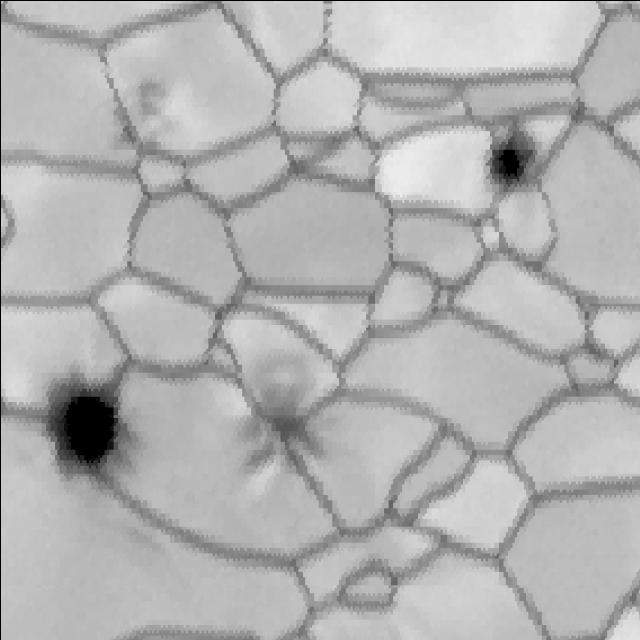good_void: (29, 343, 157, 508), (226, 341, 340, 490), (463, 100, 549, 206), (108, 65, 173, 150)
